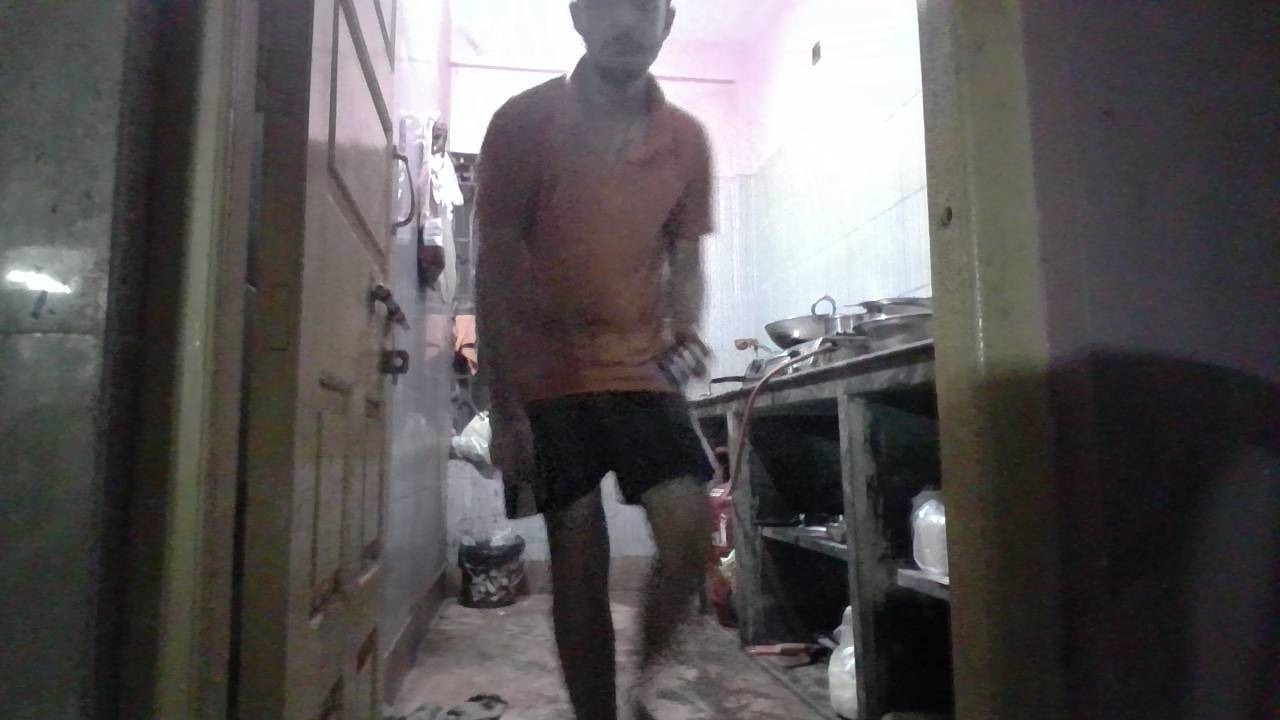red_box: (554, 342, 634, 393)
